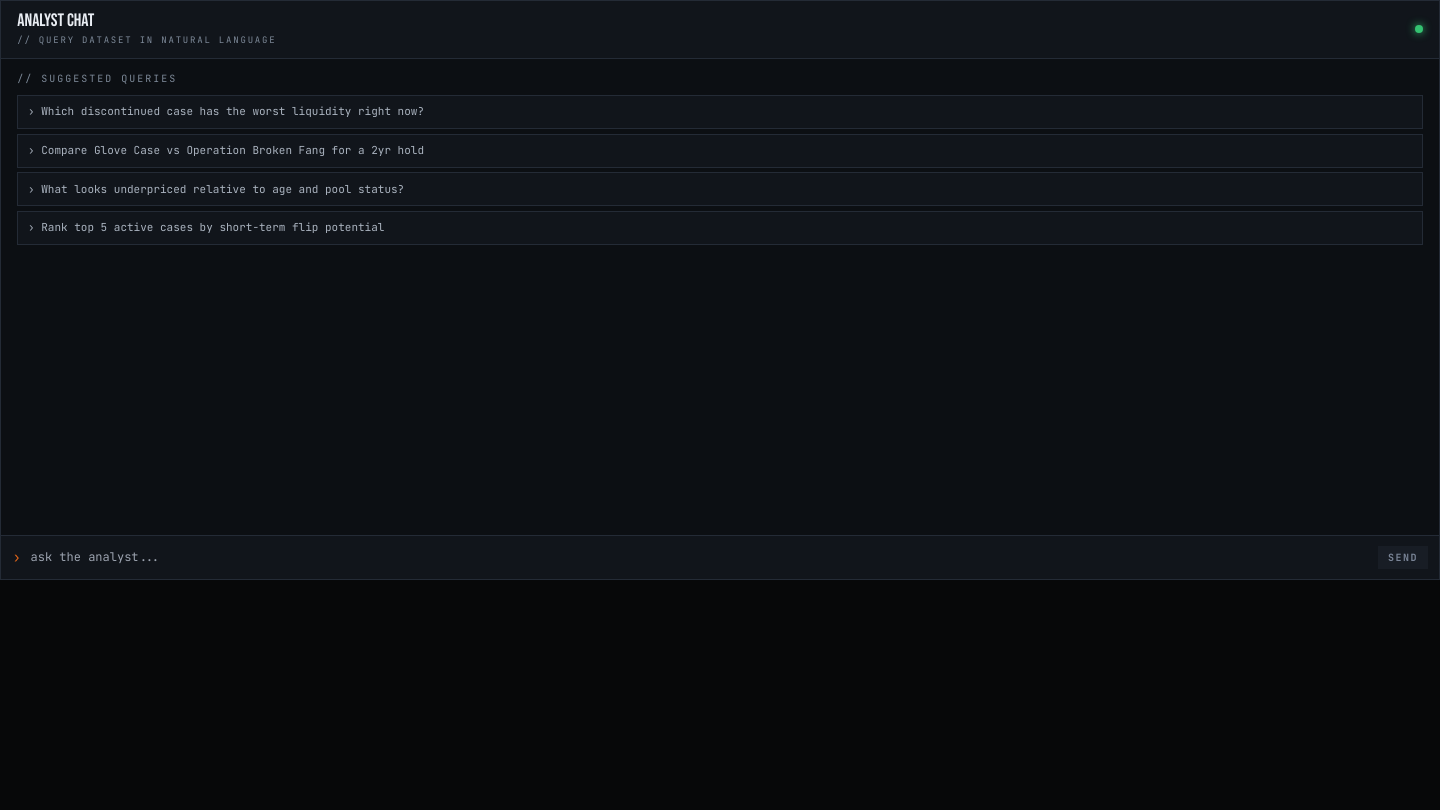
Test: ChatPanel streaming send › shows error in last assistant slot when stream throws
In the field with placeholder "ask the analyst...": (699, 558) [27,544,1372,571], type "hi"
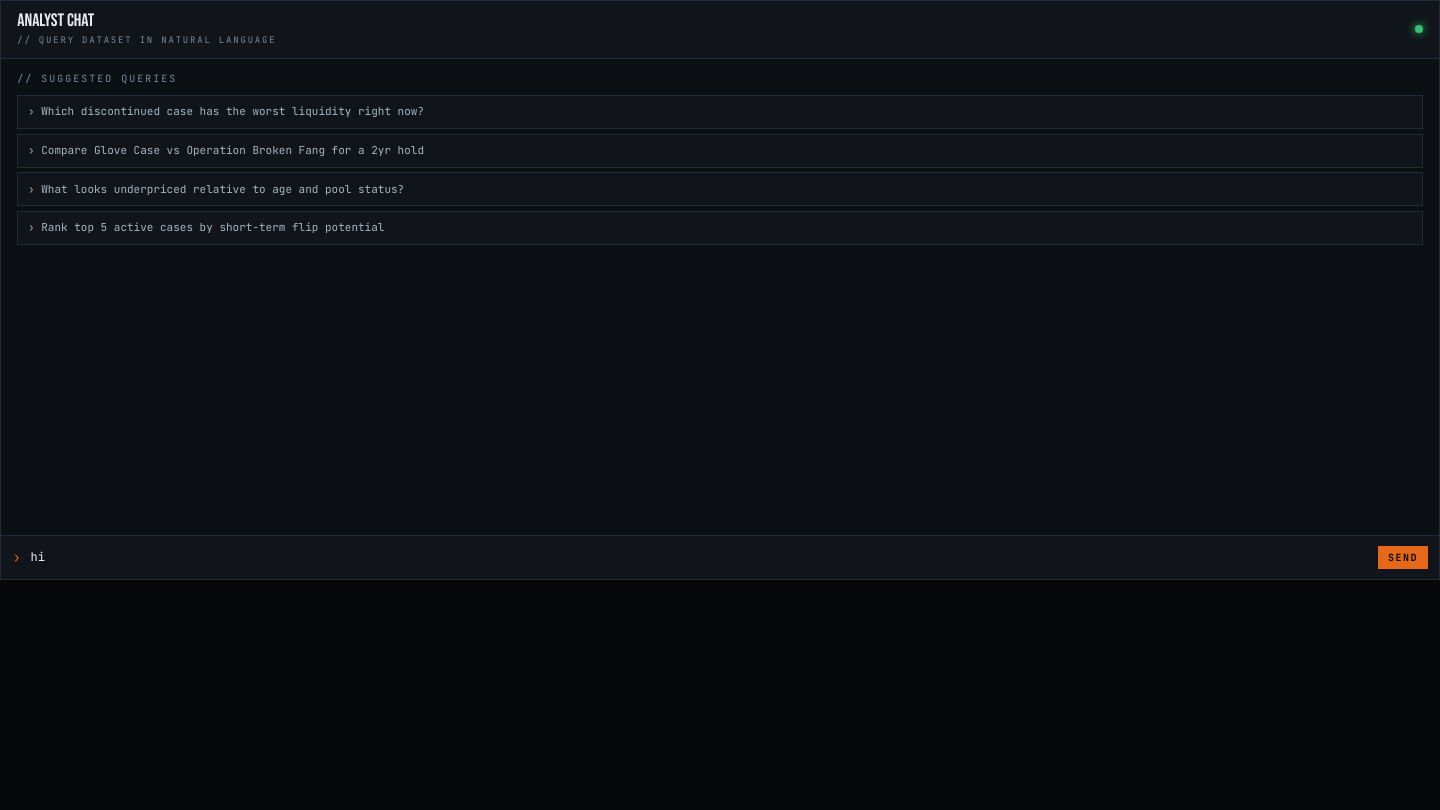
Press Enter in the field with placeholder "ask the analyst...", box [27,544,1372,571]
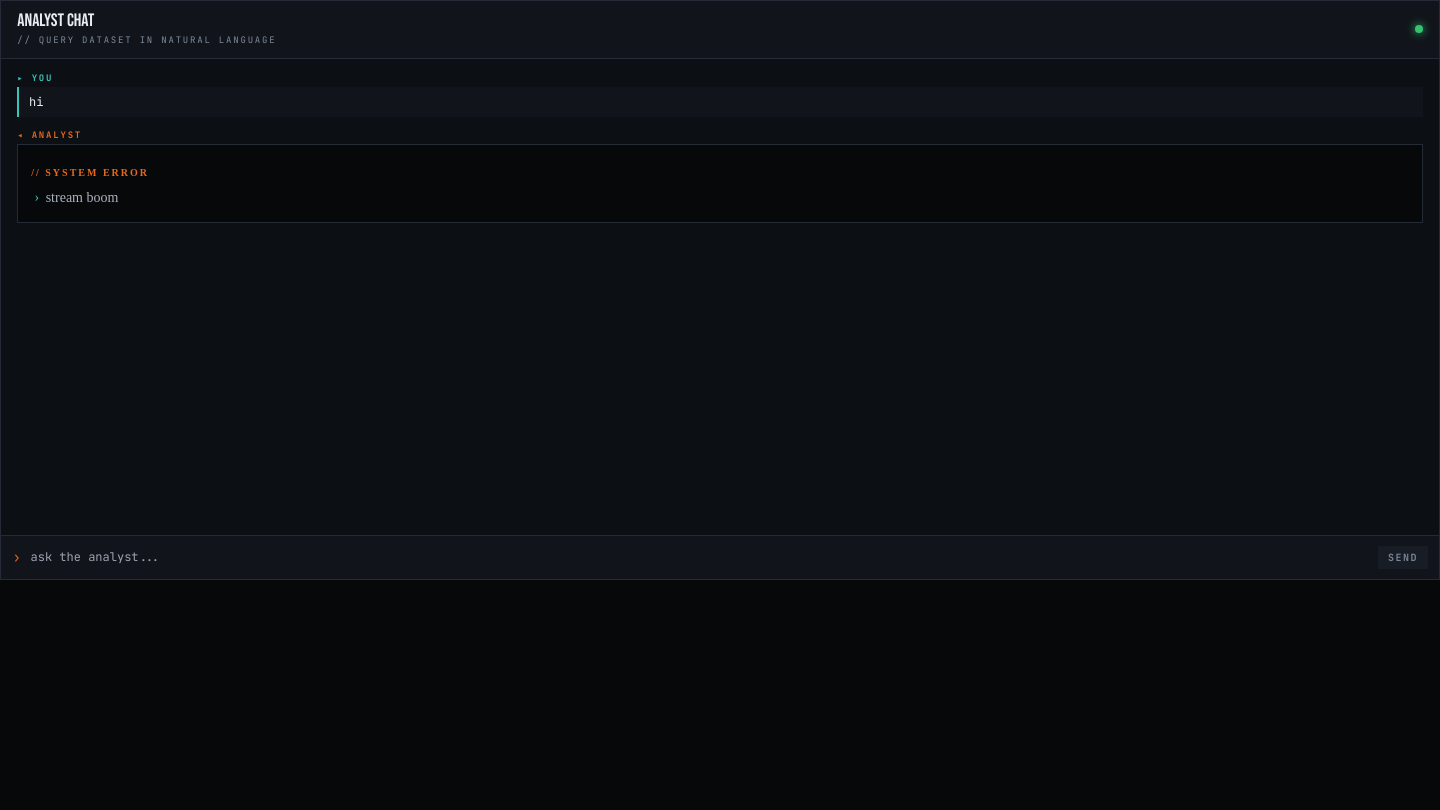
Result: the text "// SYSTEM ERROR" is shown at [31,167,149,178]
Result: the text "stream boom" is shown at [46,186,118,209]
